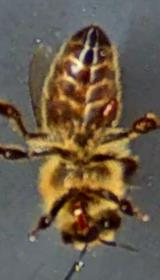varroa_mite: (92, 93, 122, 119)
